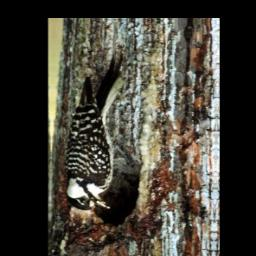Woodpecker: (65, 53, 127, 214)
